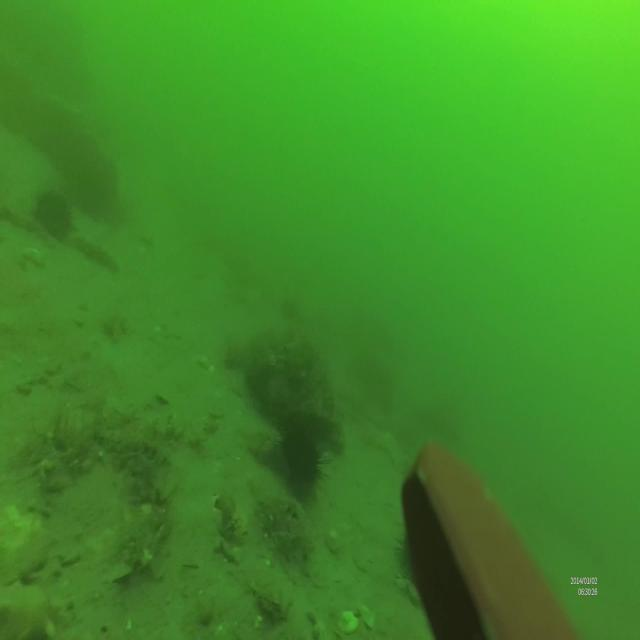echinus: (277, 420, 321, 502), (32, 185, 76, 237)
